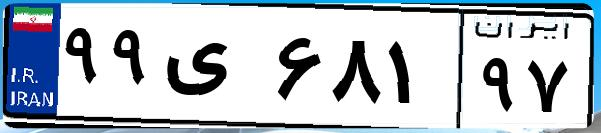1: (385, 28, 445, 110)
6: (270, 28, 330, 110)
7: (525, 38, 570, 115)
8: (330, 28, 385, 110)
9: (57, 26, 110, 100), (475, 38, 525, 113), (110, 28, 158, 98)
ی: (158, 20, 270, 120)
